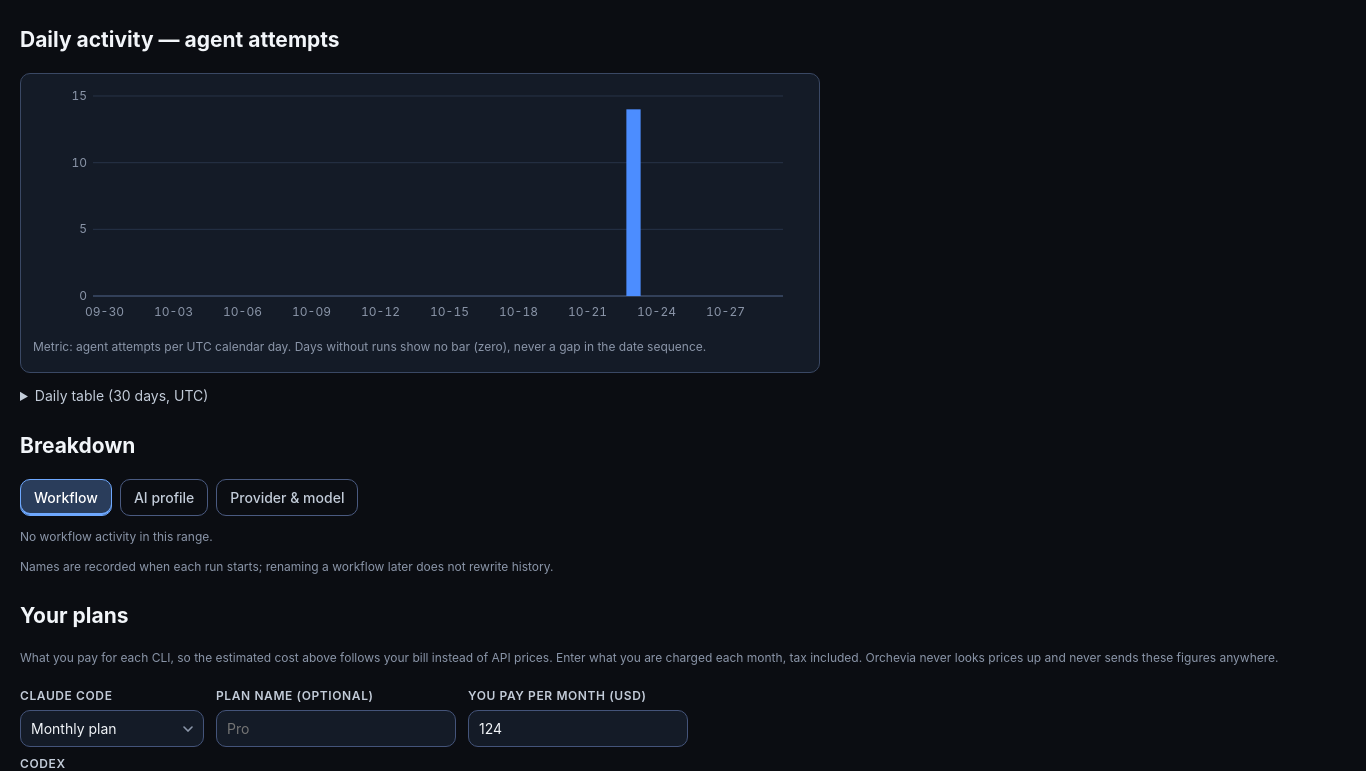
Scenario: says why an estimate is partial
What coordinates should you click on to do the following:
click the heading "Daily table (30 days, UTC)"
I would click on:
 (122, 396)
Its box is [35,387,208,404].
(page scrolled)
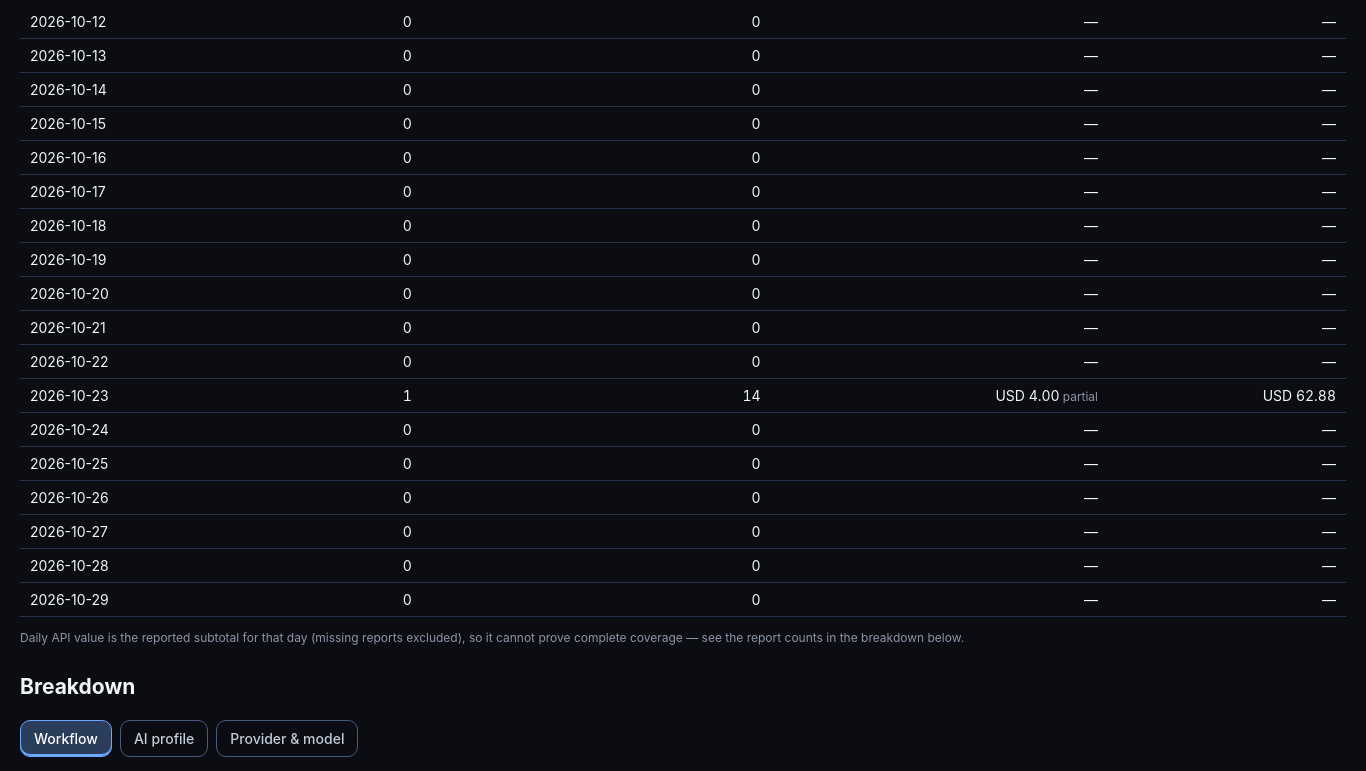
Expected: the row "2026-10-23 1 14 USD 4.00 partial USD 62.88" is shown, [20,379,1346,413]
